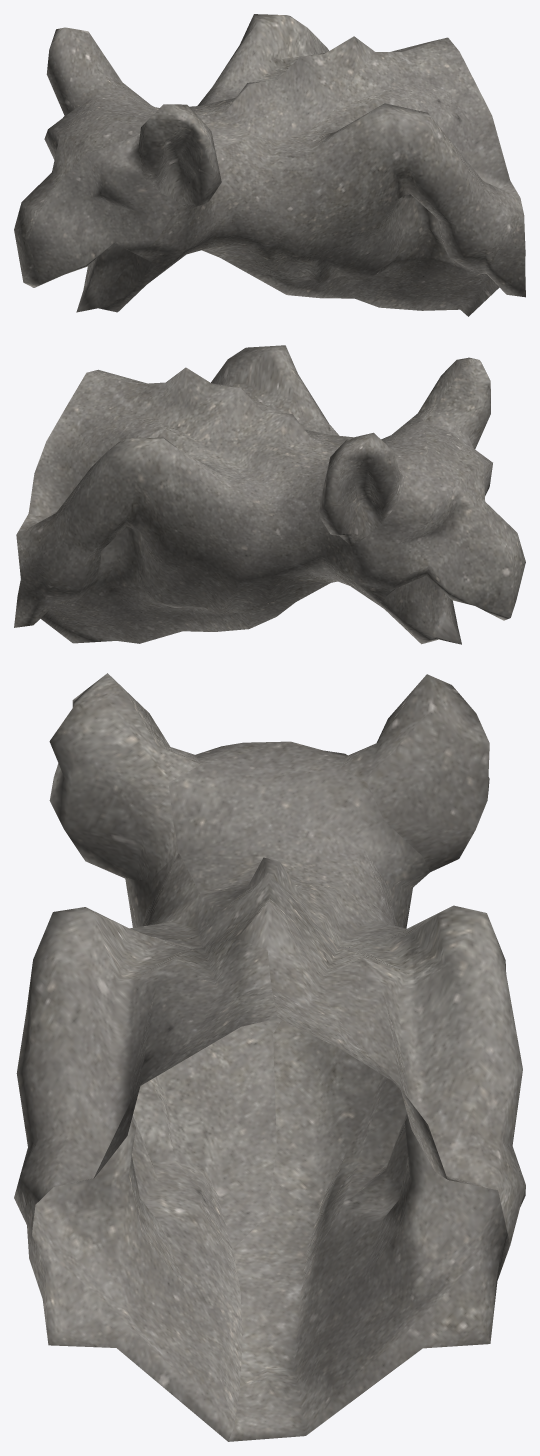
File: SM_WallGargoyle_1.fbx
3 renders of one model, top to bottom at view 1: azimuth 30°, elevation 25°; view 2: azimuth 150°, elevation 25°; view 3: azimuth 270°, elevation 25°, orthographic. The views are drawn at different scales.
Parts seen in each view (by area): view 1: SM_WallGargoyle_1_LOD0; view 2: SM_WallGargoyle_1_LOD0; view 3: SM_WallGargoyle_1_LOD0.
Part boxes in pixels (box(x1,y1,x2,y2)): SM_WallGargoyle_1_LOD0: box(14, 14, 525, 316); SM_WallGargoyle_1_LOD0: box(14, 345, 525, 644); SM_WallGargoyle_1_LOD0: box(14, 673, 525, 1441).
Size of the model in its own units: 97.66 by 63.73 by 69.89.
